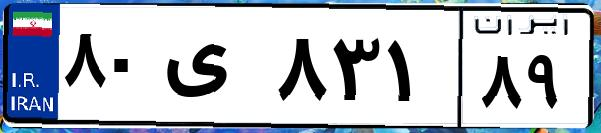0: (110, 28, 158, 98)
1: (385, 28, 445, 110)
3: (330, 28, 385, 110)
8: (270, 28, 330, 110), (57, 26, 110, 100), (475, 38, 525, 113)
9: (525, 38, 570, 115)
ی: (158, 20, 270, 120)
